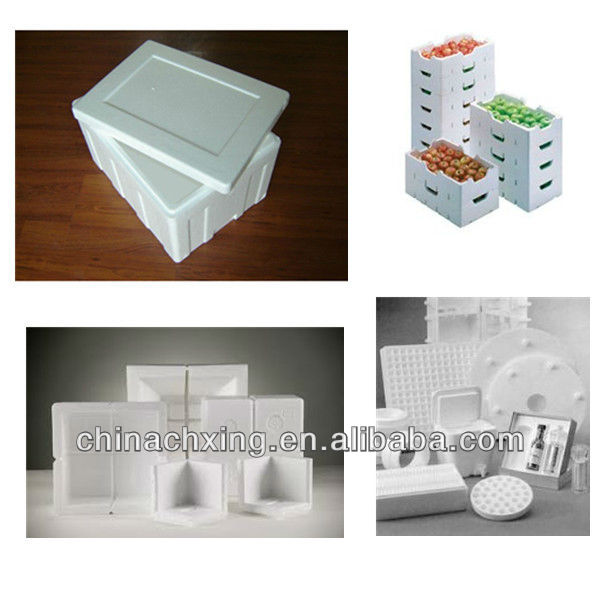泡沫箱: (72, 41, 289, 261), (53, 365, 313, 524)
